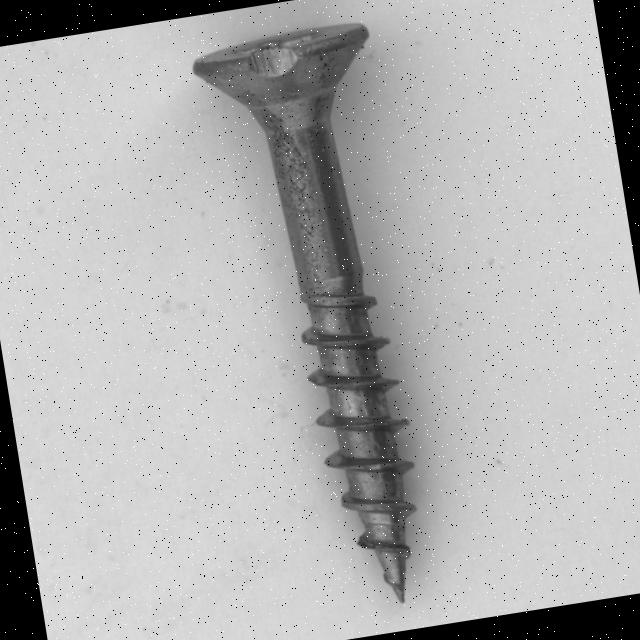scratch_head: (236, 37, 304, 87)
